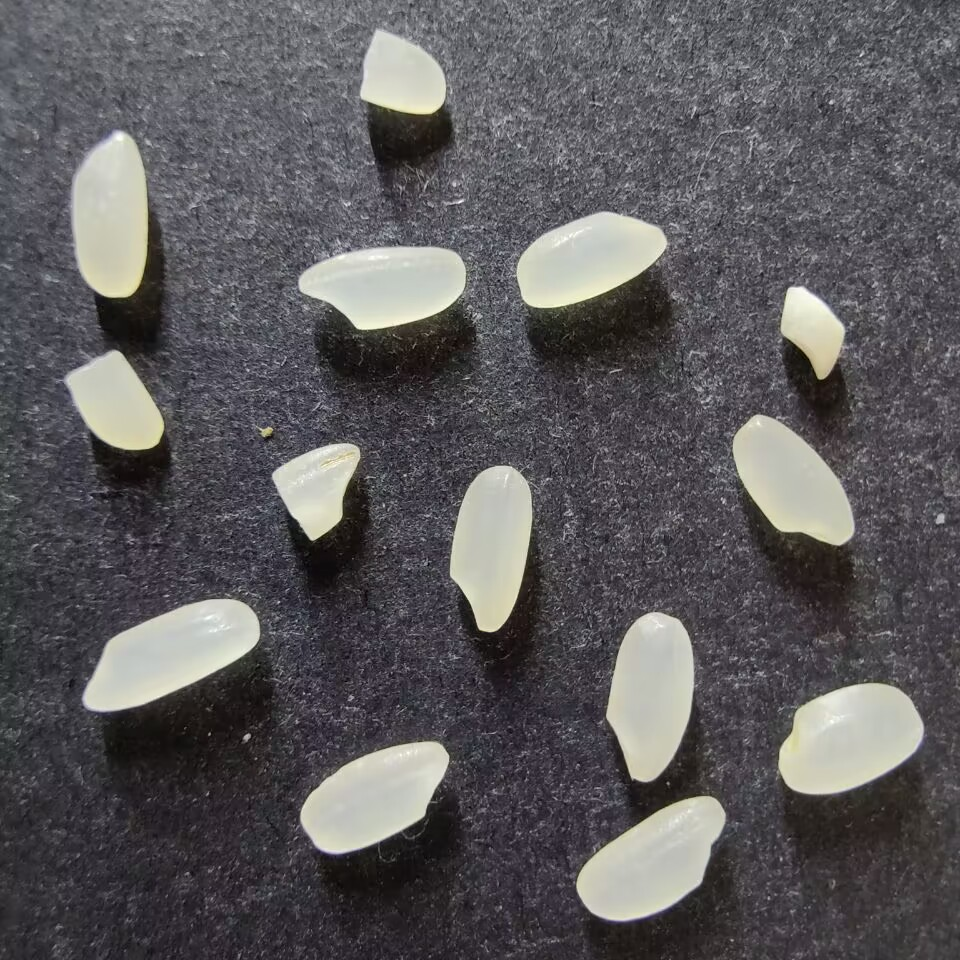broken: (64, 350, 165, 451), (271, 442, 362, 541), (358, 30, 447, 115), (779, 285, 846, 380)
rice: (82, 598, 261, 712), (576, 795, 727, 922), (299, 740, 449, 855), (731, 413, 856, 547), (778, 682, 925, 795), (605, 611, 695, 782), (516, 210, 667, 308), (297, 245, 466, 331), (448, 464, 533, 633), (70, 131, 149, 298)
